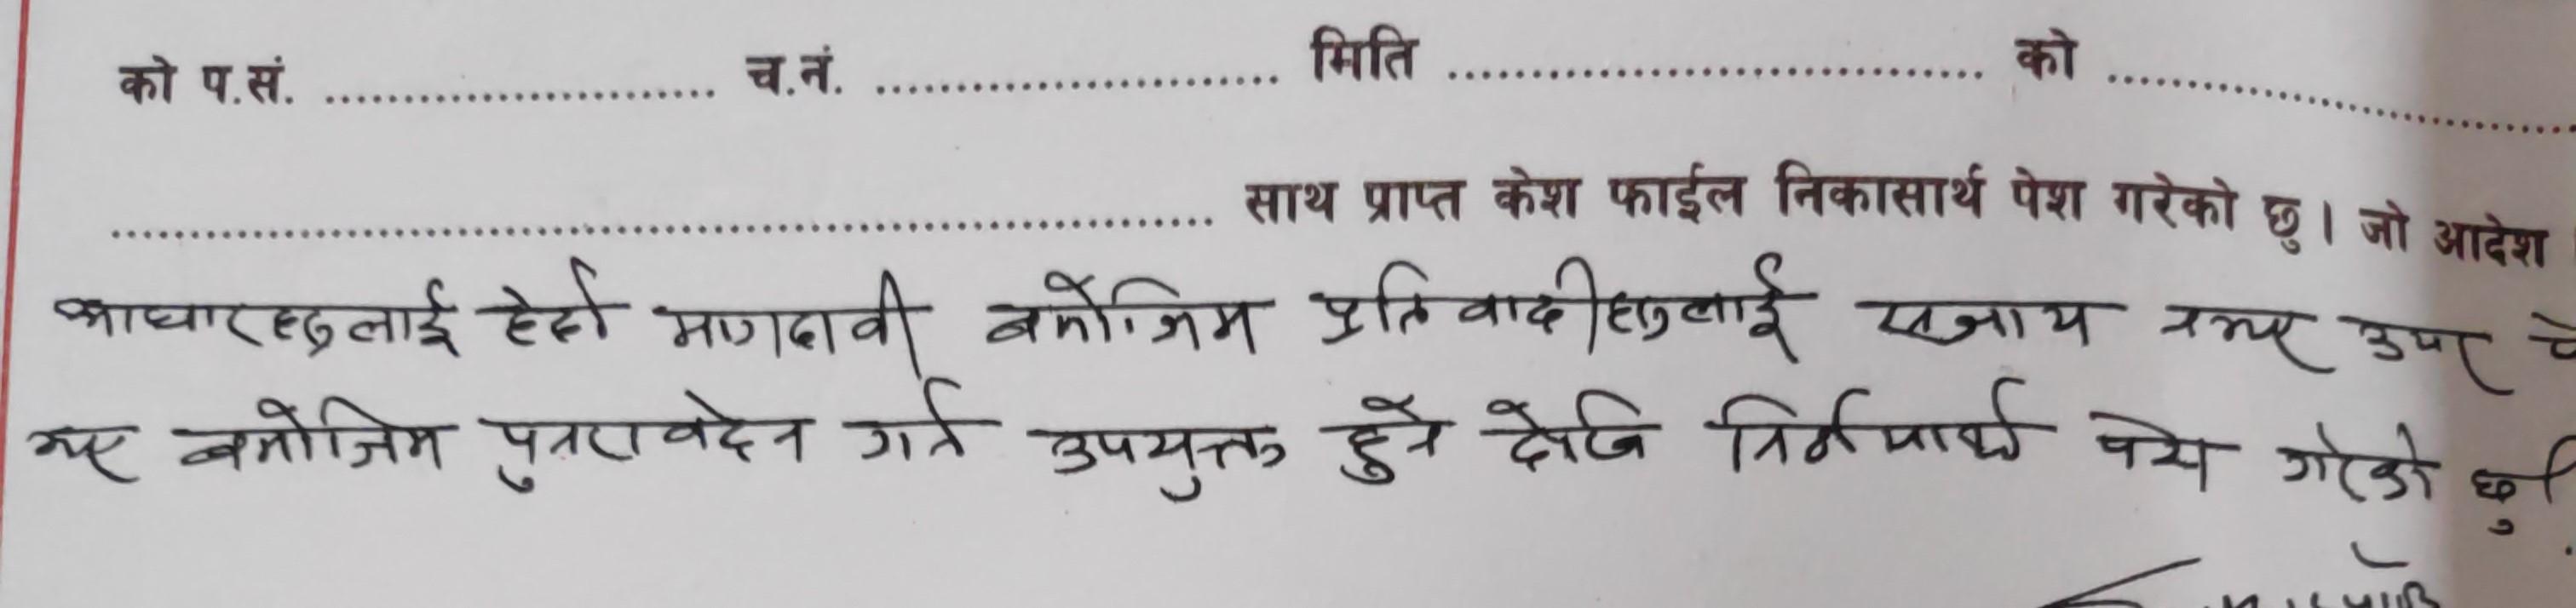text: (1304, 250, 1807, 365), (49, 269, 458, 363), (481, 386, 812, 496), (1710, 373, 2035, 480), (657, 263, 927, 365), (979, 266, 1262, 358), (172, 394, 444, 481), (1032, 417, 1286, 504), (1858, 292, 2113, 358), (2277, 414, 2441, 506), (1485, 388, 1659, 472), (2152, 301, 2333, 378), (849, 373, 984, 472), (2351, 312, 2515, 393), (1331, 388, 1447, 490), (490, 255, 611, 352), (2081, 404, 2218, 490), (21, 424, 148, 490), (2468, 462, 2525, 547)
